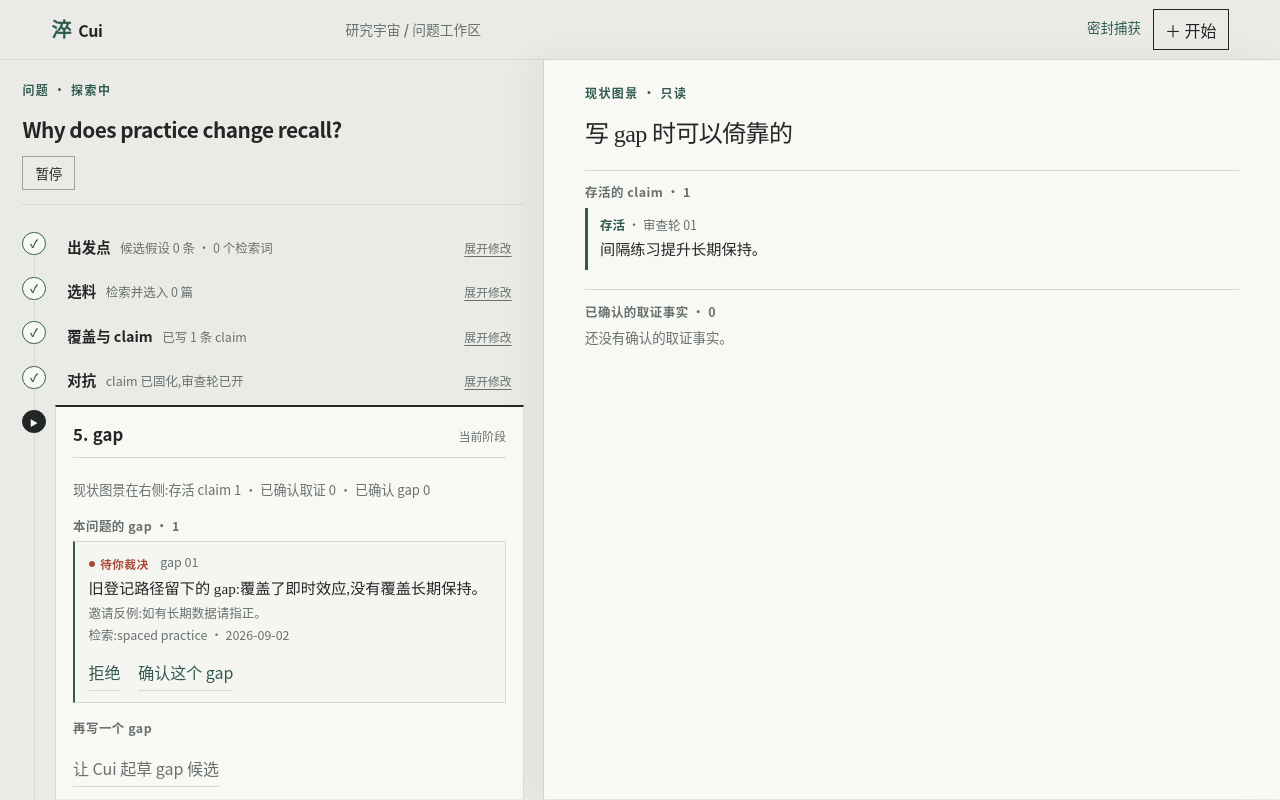
Test: gap stage: one path (S5) › with no round open the focus panel is the 现状 panel; a round opened from it closes back with 「回到现状」
The image size is (1280, 800).
Check: the heading "写 gap 时可以倚靠的" is shown, box [585,121,792,147]
Check: the element named "聚焦面" shows "存活的 claim · 1", box [544,60,1279,799]
Click the button "存活 · 审查轮 01 间隔练习提升长期保持。". click: [661, 225]
box: [585,208,1239,270]
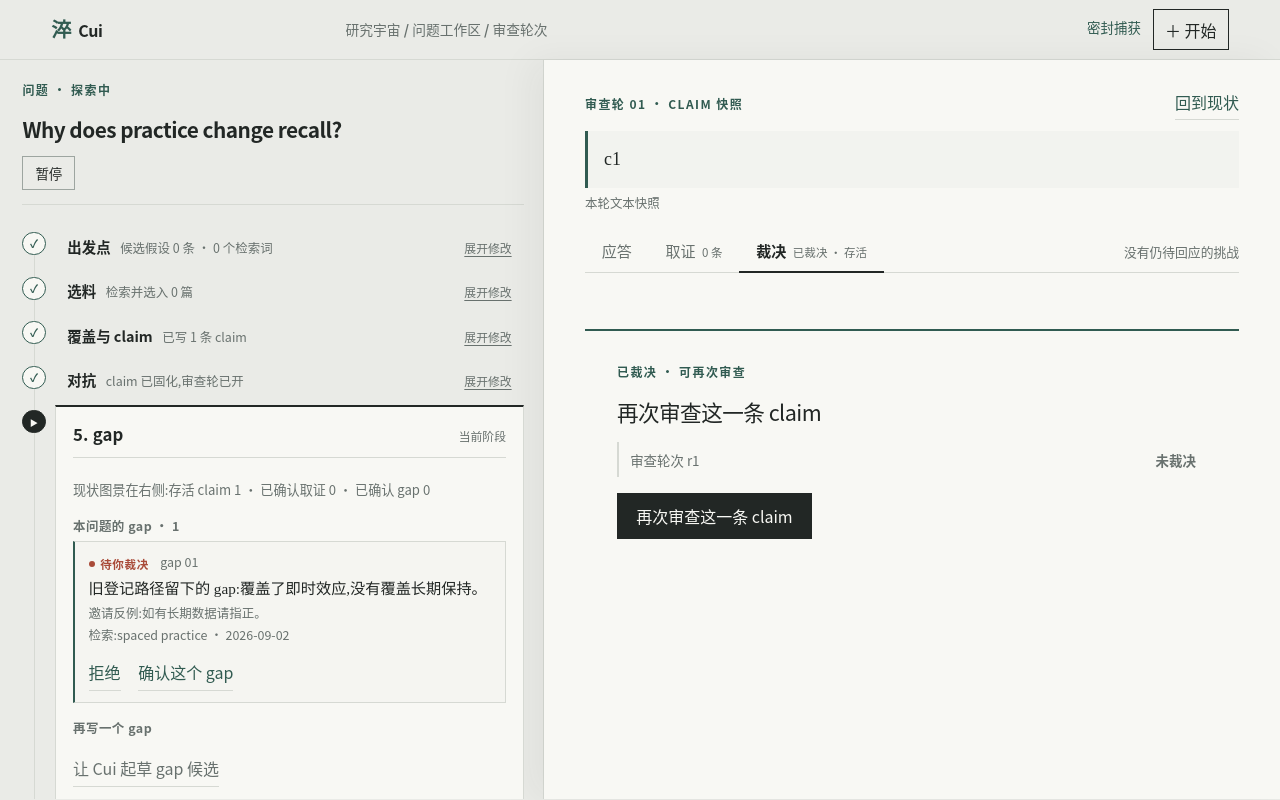
Check: the heading "5. gap" is shown, box [73,422,124,447]
Check: the heading "写 gap 时可以倚靠的" is gone
Click the button "回到现状". click: [1207, 102]
box: [1175,84,1239,120]
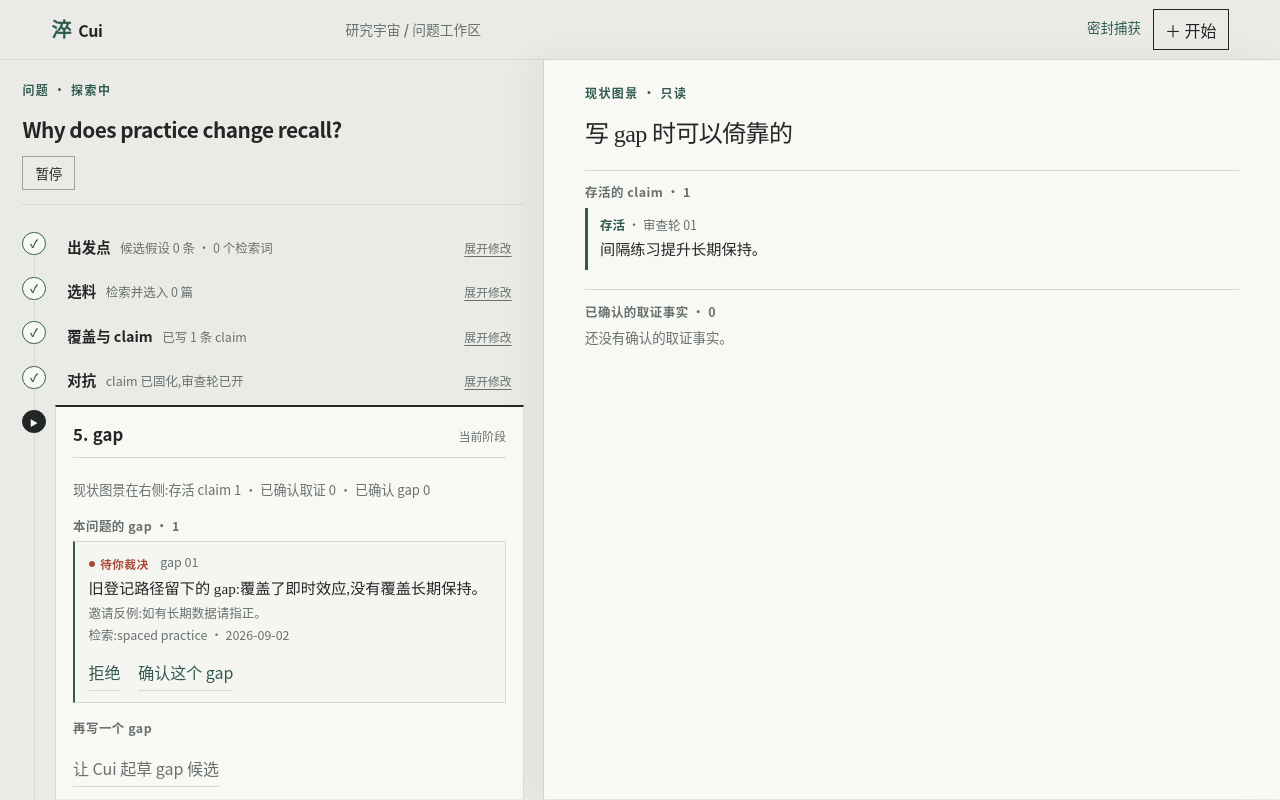
Check: the heading "写 gap 时可以倚靠的" is shown, box [585,121,792,147]
